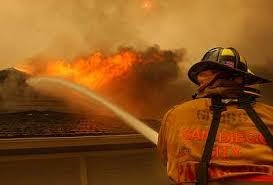fire: (30, 46, 138, 89)
